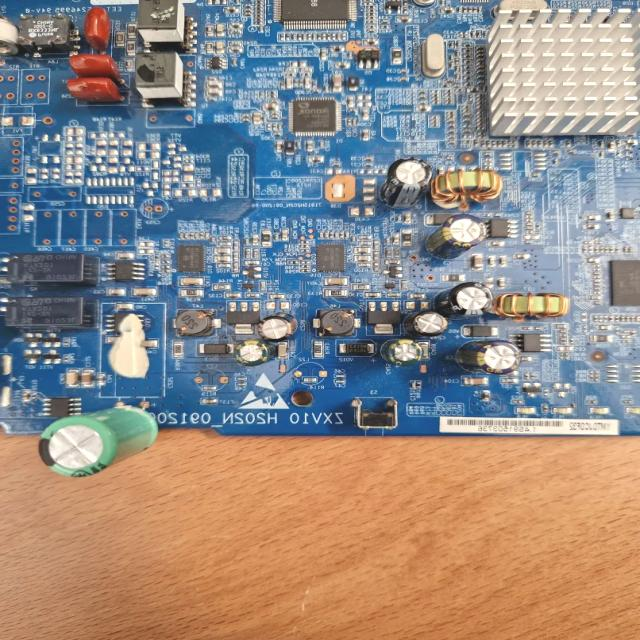A: (433, 169, 502, 208), (496, 292, 568, 320)
C: (39, 406, 157, 476), (428, 216, 488, 258), (382, 158, 432, 206), (438, 282, 492, 318), (460, 341, 520, 373), (258, 312, 296, 342), (410, 310, 448, 336), (384, 340, 422, 366), (236, 340, 274, 366)
